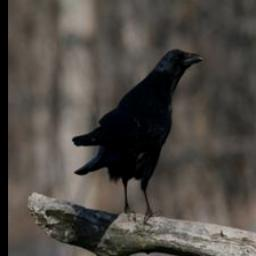Crow: (72, 45, 205, 227)
